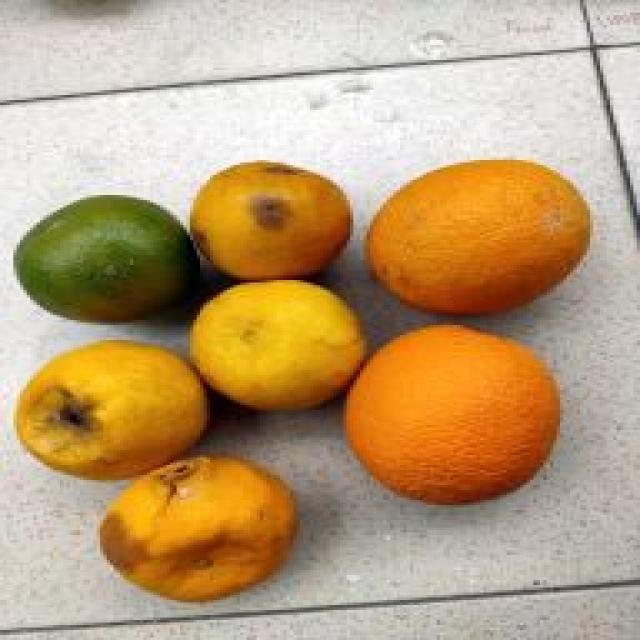Organik: (325, 328, 567, 528), (350, 145, 621, 322), (74, 444, 286, 620), (23, 338, 248, 480), (10, 193, 219, 344), (156, 140, 361, 290), (158, 268, 365, 412)
